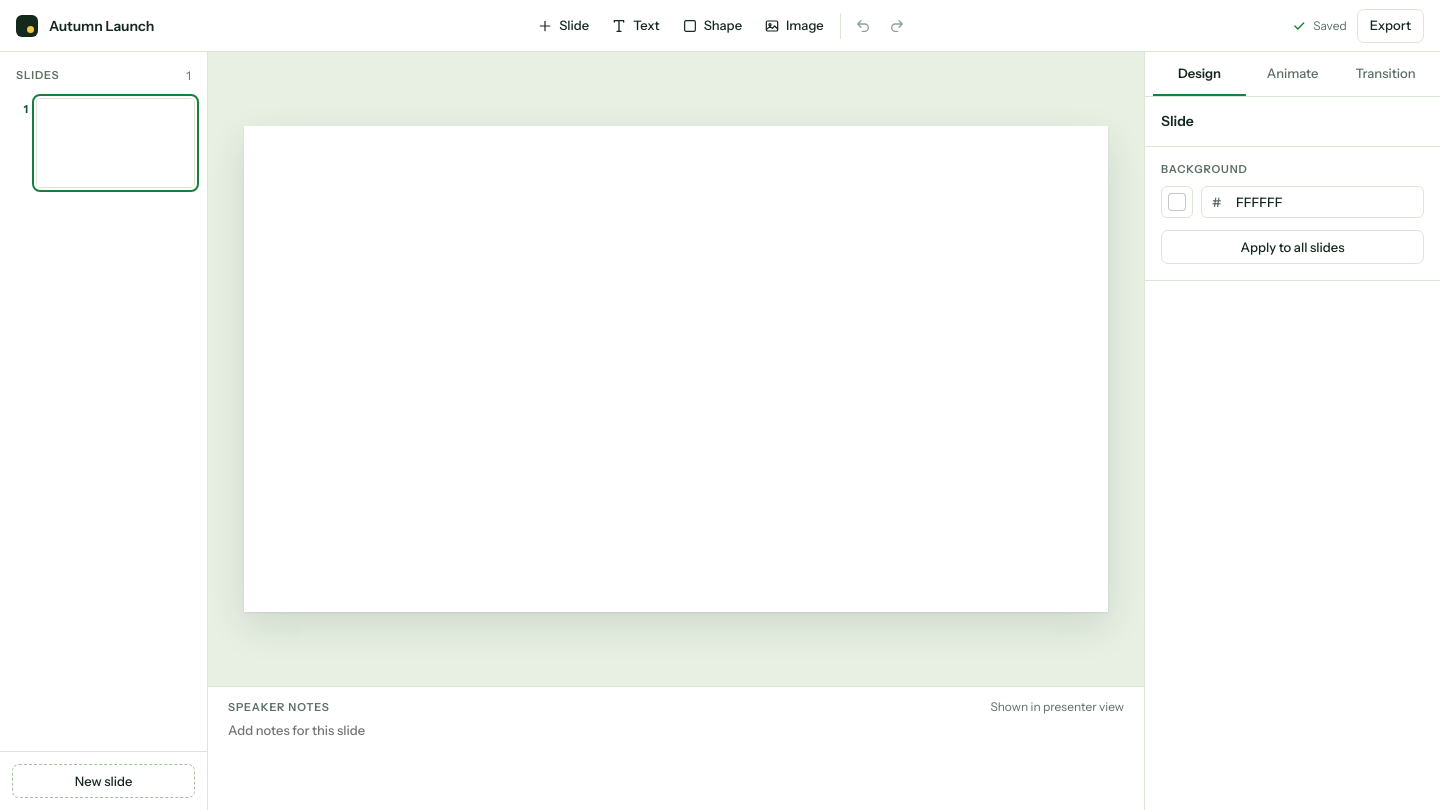
Test: Given the list, When text is typed in the search field, Then it narrows to the shortcuts that match, by name or by key
Expected: the option named "Slide 1" is shown, [12, 98, 195, 188]
Step 1. Type keys "?"
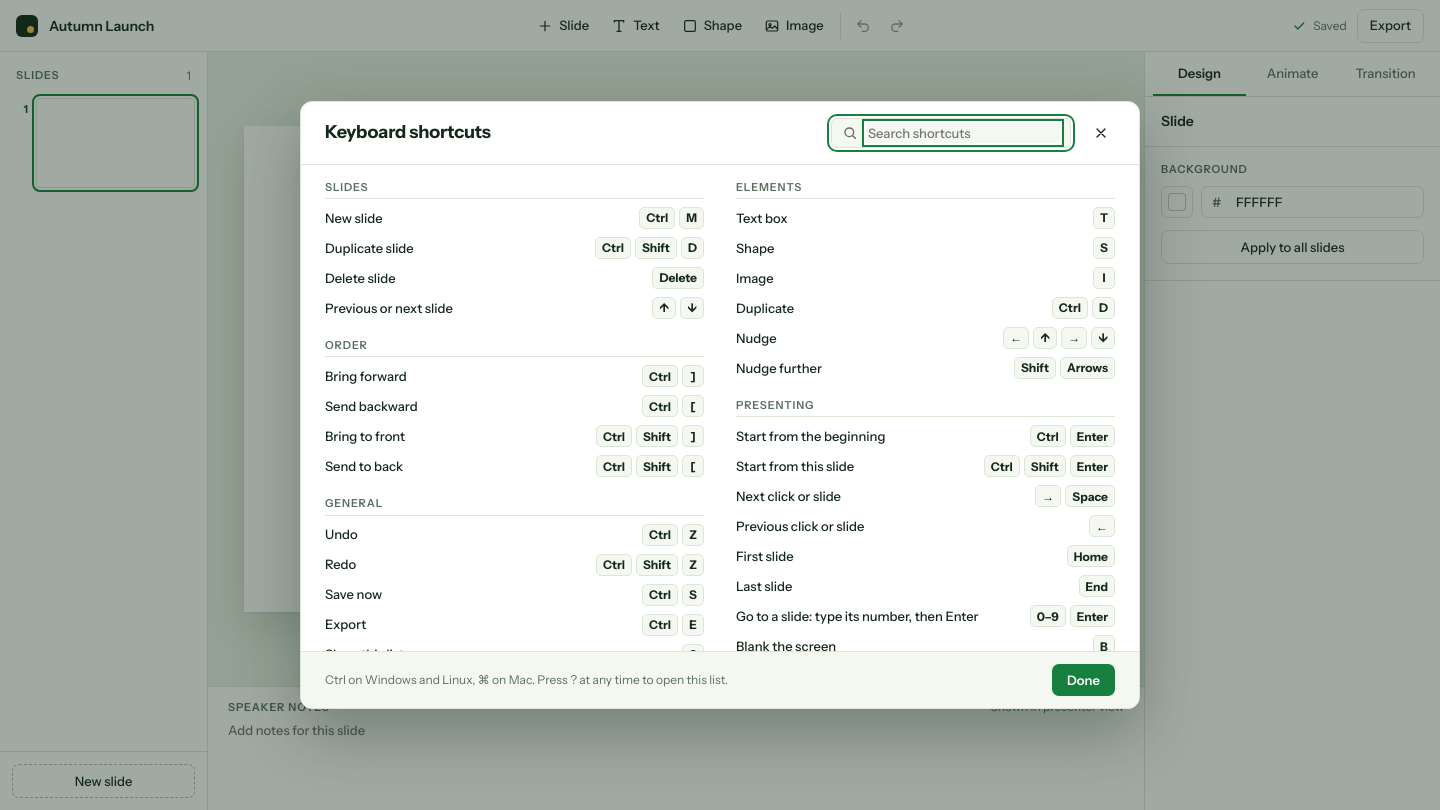
Step 2. Type "duplicate" into the search field labelled "Search shortcuts" → (963, 133), box [866, 123, 1060, 143]
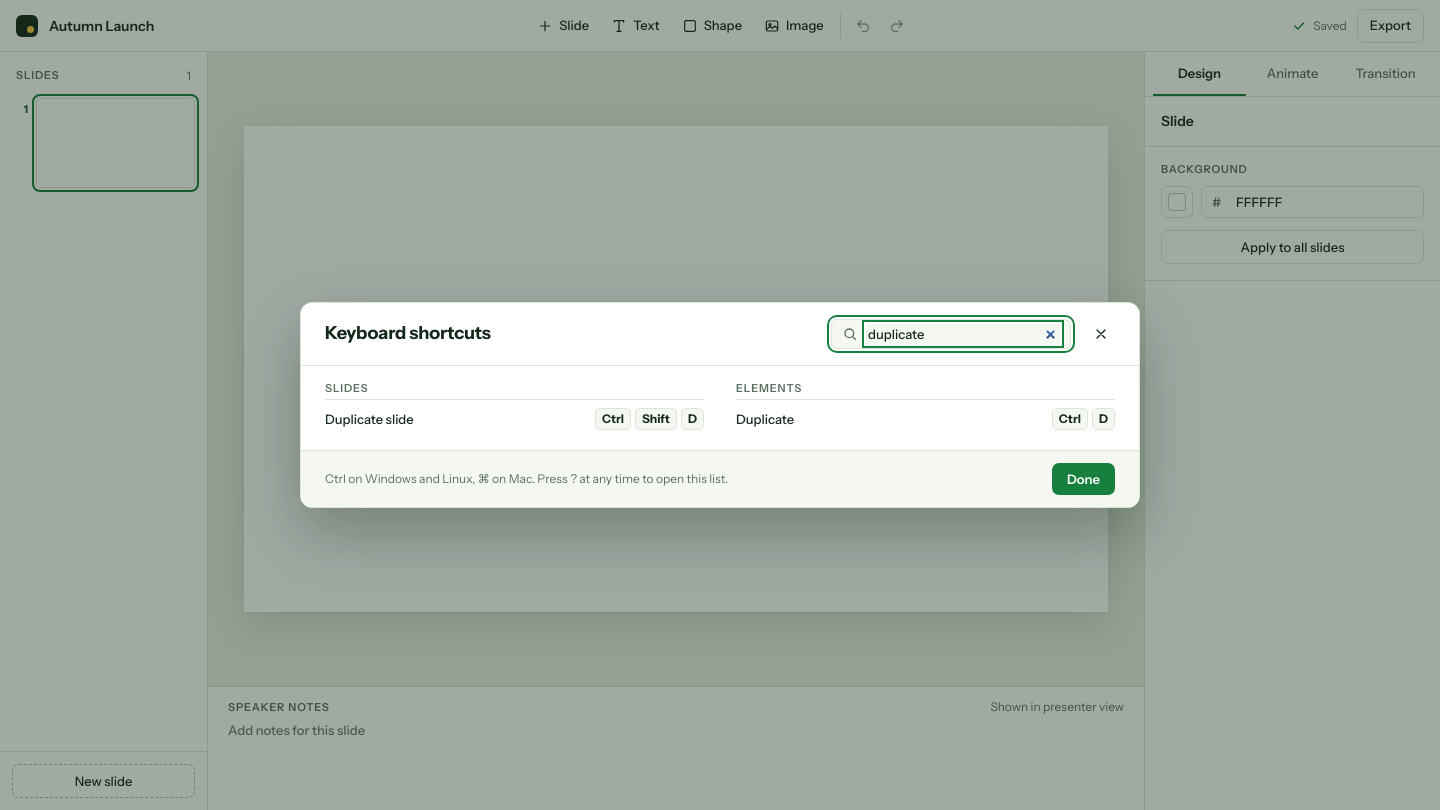
Expected: the text "Duplicate slide" is shown, [325, 410, 414, 428]
Expected: the text "Duplicate" is shown, [736, 410, 794, 428]
Expected: the text "Bring forward" is gone
Step 3. Replace the text in the search field named "Search shortcuts" with "zzzz" → (963, 334), box [866, 324, 1060, 344]
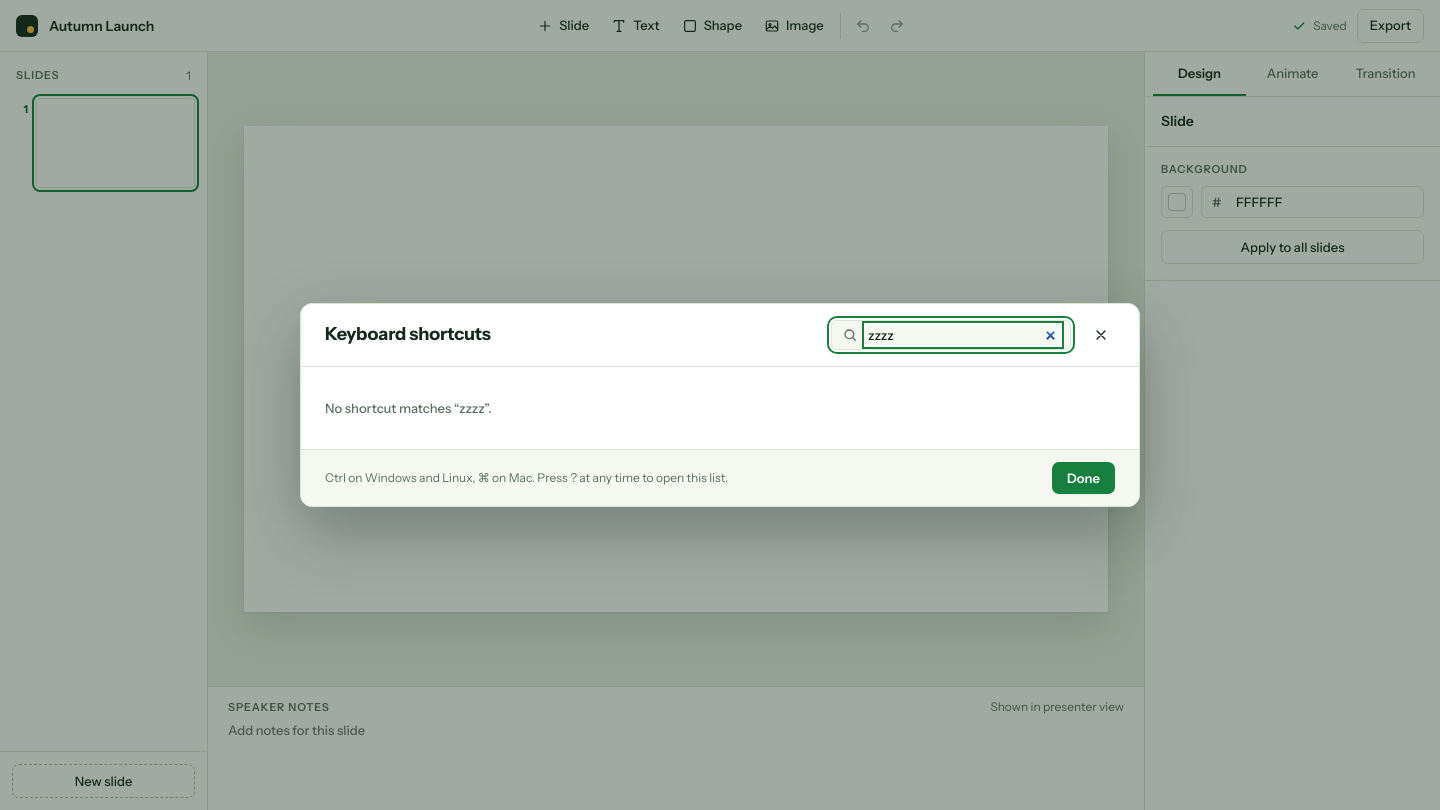
Expected: the text "No shortcut matches “zzzz”." is shown, [325, 400, 492, 416]
